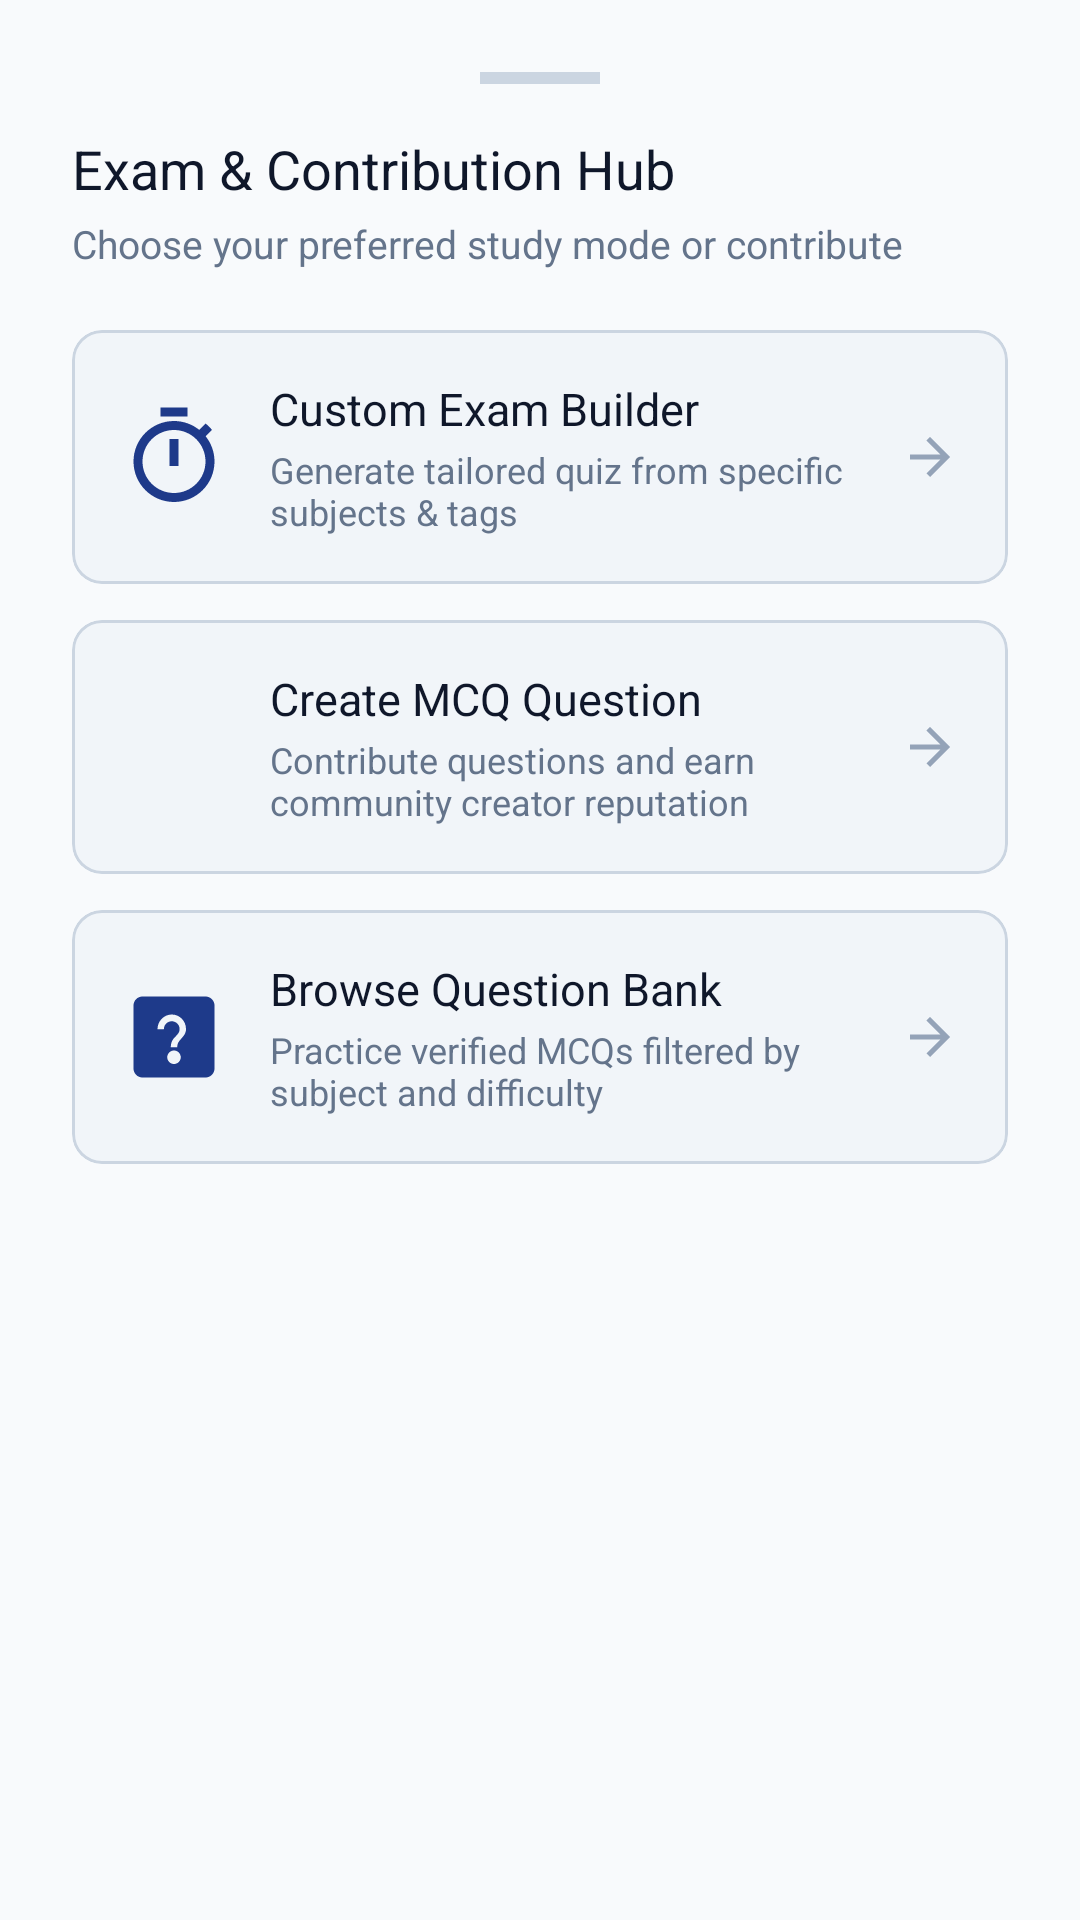

Named icons in this screenshot (1080 × 1920) and their bounding boxes, (x1, y1, x2, y2):
Arrow: (910, 437, 950, 477), (910, 727, 950, 767), (910, 1017, 950, 1057)
Browse Questions: (133, 996, 215, 1078)
